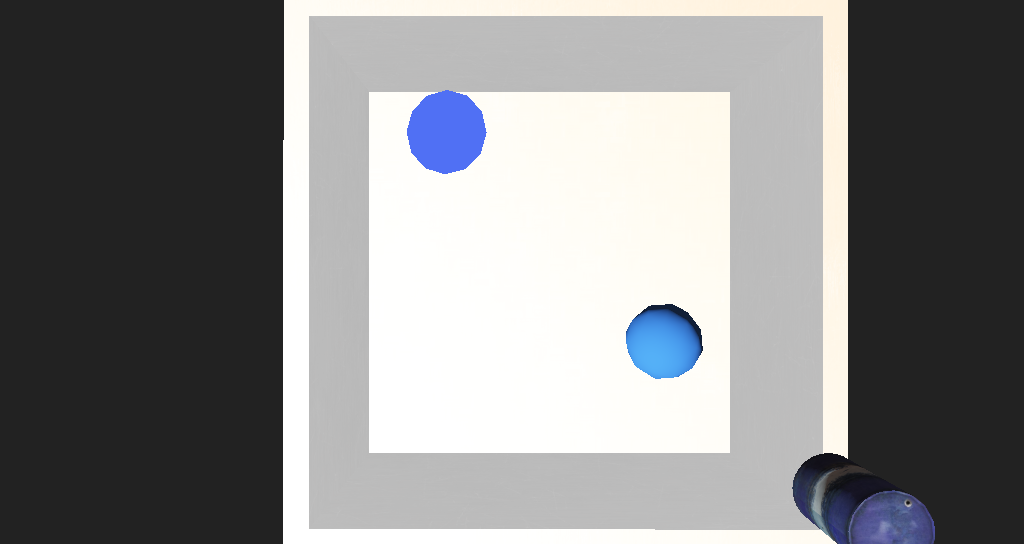cone: (680, 370, 775, 432)
cylinder: (384, 157, 465, 215)
sphere: (569, 289, 630, 332)
